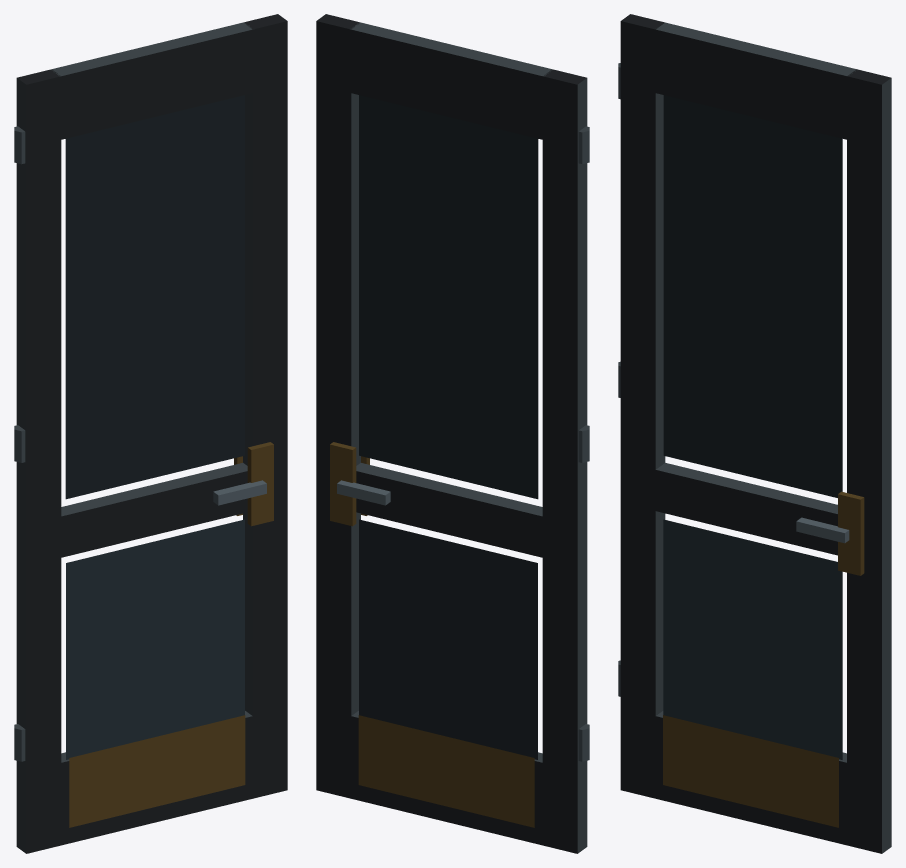
Rendered from lp_gallery_door_leaf.glb.
The picture shows the model from 3 angles, left to right: view 1: azimuth 30°, elevation 25°; view 2: azimuth 150°, elevation 25°; view 3: azimuth 330°, elevation 25°; orthographic projection.
Parts seen in each view (by area): view 1: lp_gallery_door_leaf; view 2: lp_gallery_door_leaf; view 3: lp_gallery_door_leaf.
Boxes of the visible parts, x1,y1,x2,y2 form: lp_gallery_door_leaf: (14, 14, 287, 853); lp_gallery_door_leaf: (316, 14, 589, 853); lp_gallery_door_leaf: (618, 14, 891, 853).
Size of the model in its own units: 0.884 by 2.42 by 0.149.
1 material, 1 textured.
